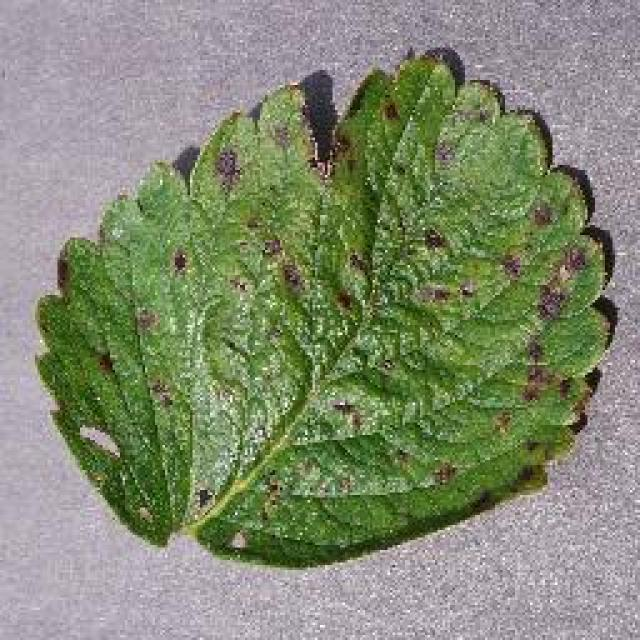Strawberry leaf scorch: (203, 152, 520, 485)
